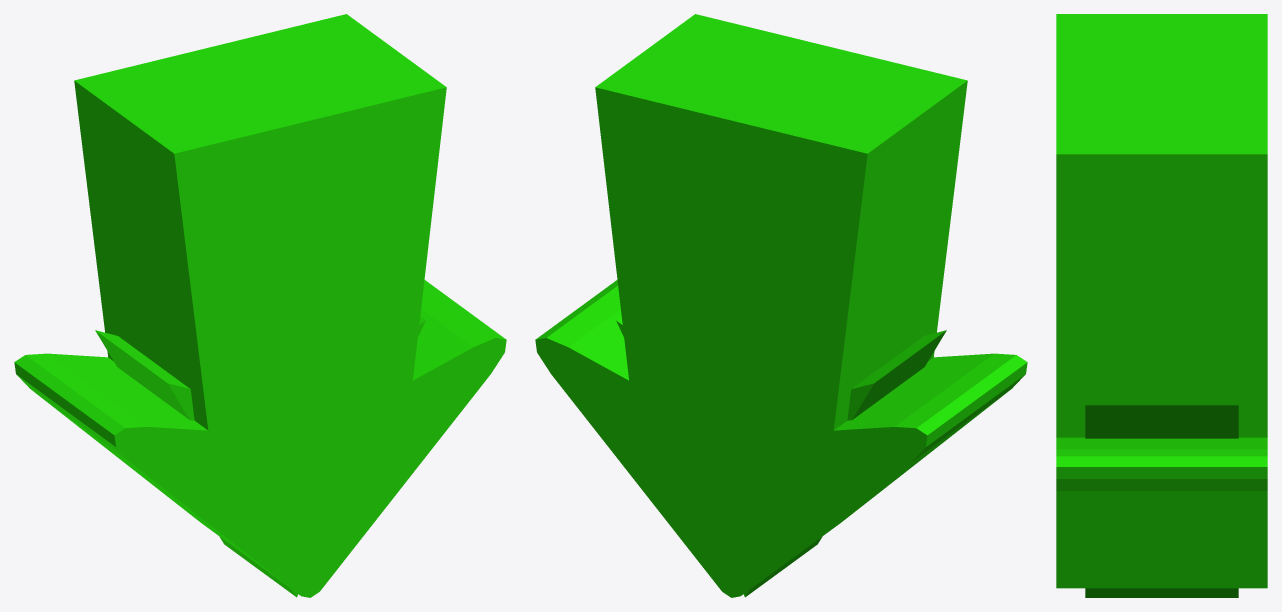
File: arrow.fbx
The picture shows the model from 3 angles, left to right: view 1: azimuth 30°, elevation 25°; view 2: azimuth 150°, elevation 25°; view 3: azimuth 270°, elevation 25°; orthographic projection. The views are drawn at different scales.
Visible parts, largest first — view 1: arrow 1, arrow 2; view 2: arrow 1, arrow 2; view 3: arrow 1, arrow 2.
Boxes of the visible parts, x1,y1,x2,y2 form: arrow 1: (14, 14, 506, 597); arrow 2: (95, 316, 425, 597); arrow 1: (535, 14, 1027, 597); arrow 2: (616, 316, 946, 597); arrow 1: (1056, 14, 1267, 588); arrow 2: (1085, 405, 1238, 597).
Size of the model in its own units: 288 by 342 by 127.
